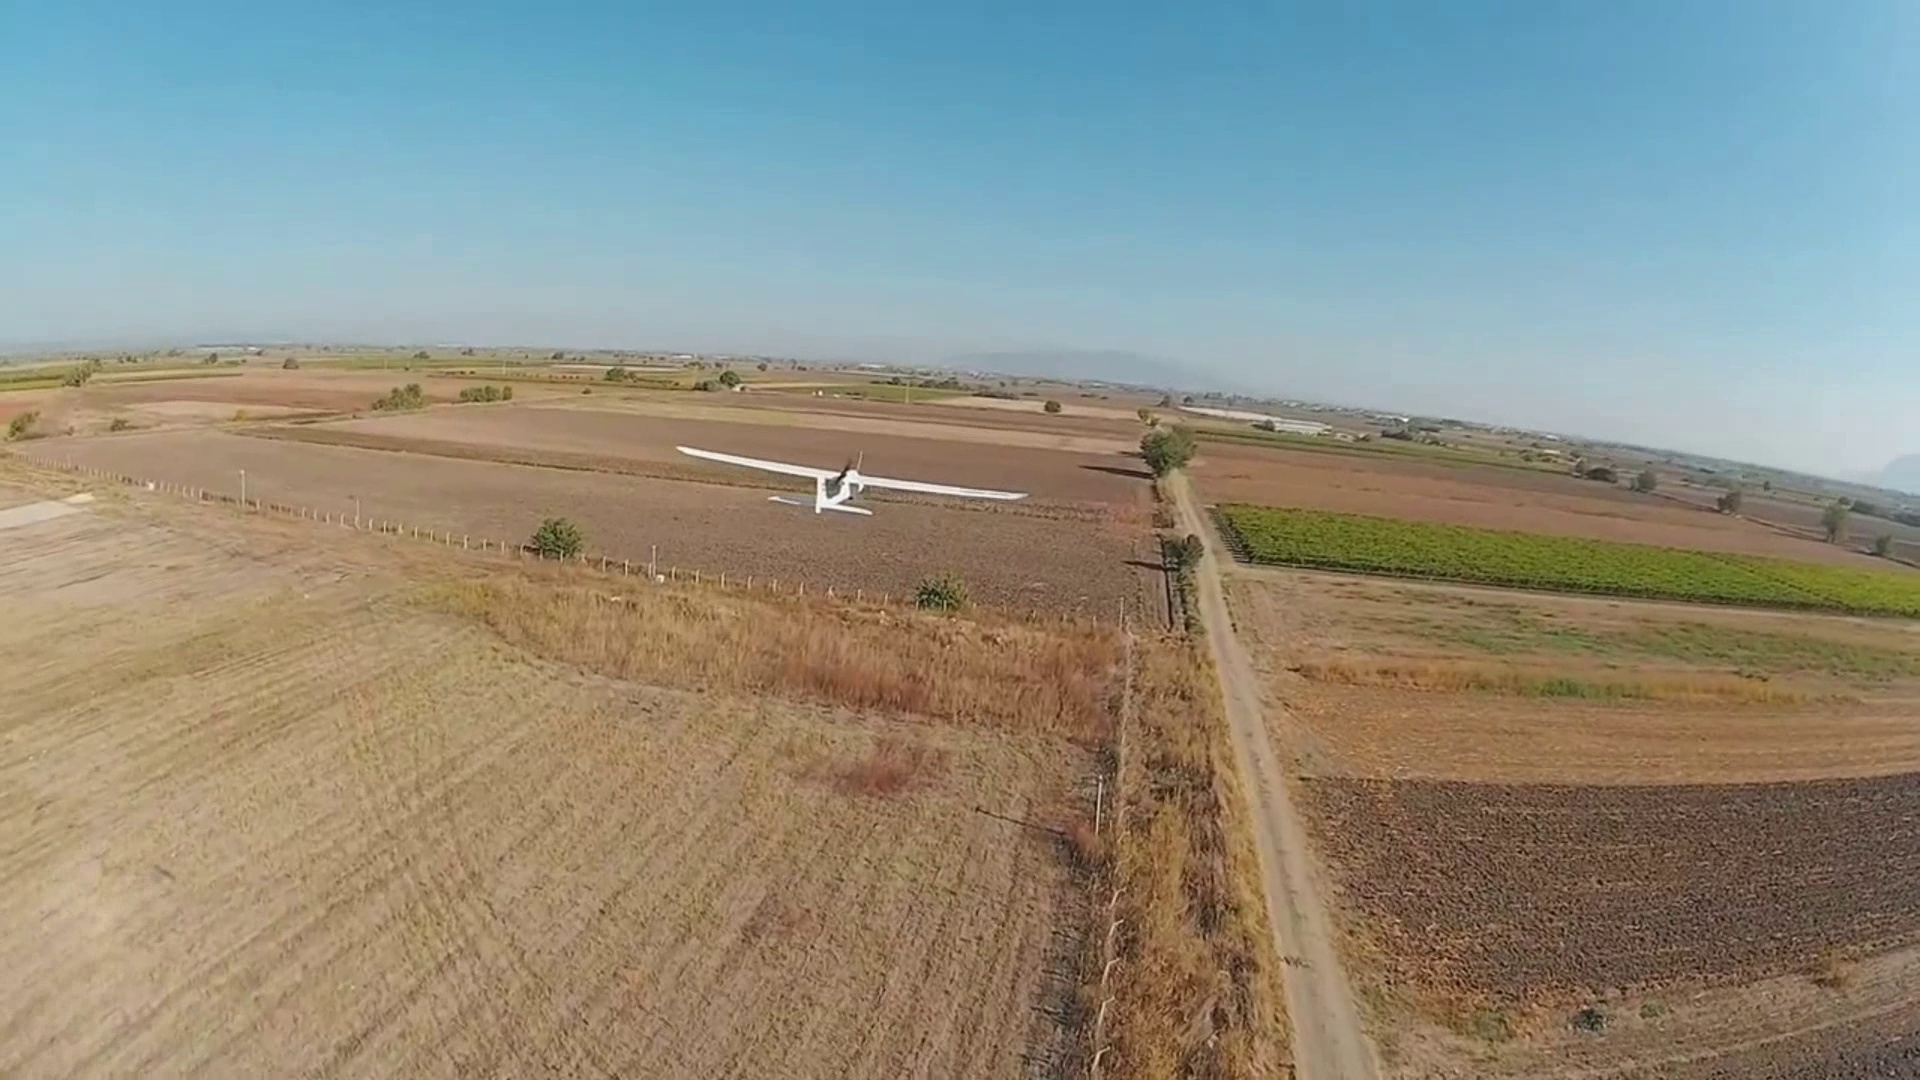airplane: (674, 439, 1027, 516)
